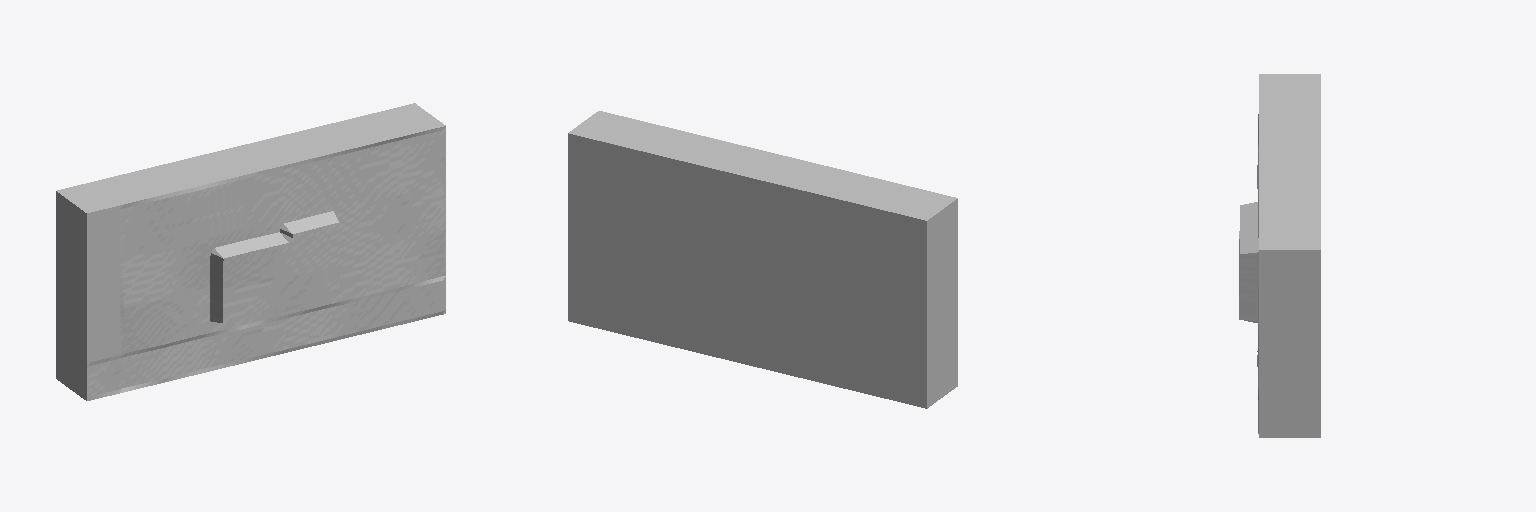
File: rectangular_prism_bumps_9_6.obj
3 renders of one model, left to right at view 1: azimuth 30°, elevation 25°; view 2: azimuth 150°, elevation 25°; view 3: azimuth 270°, elevation 25°, orthographic.
Bounding box in the file's own units: 10 × 5 × 1.99.